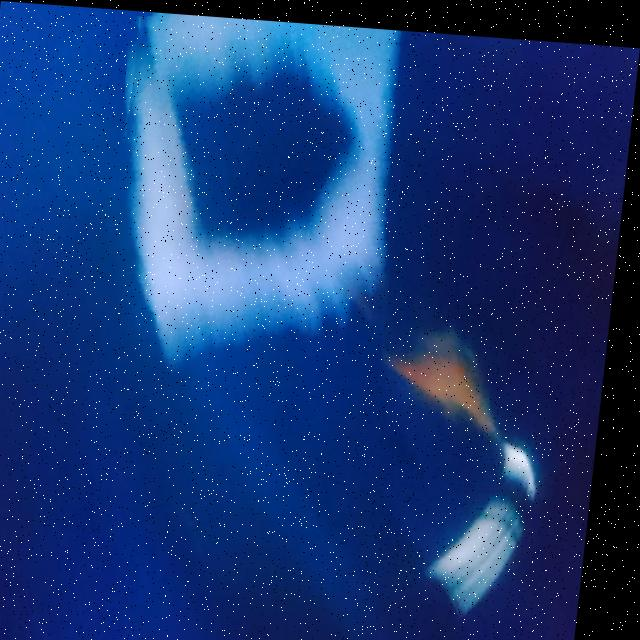litter: (100, 8, 416, 398)
